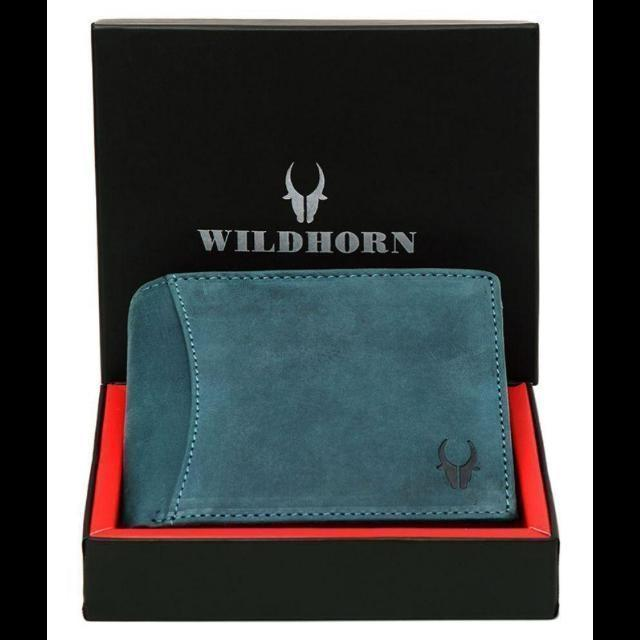Wallet: (118, 262, 522, 534)
